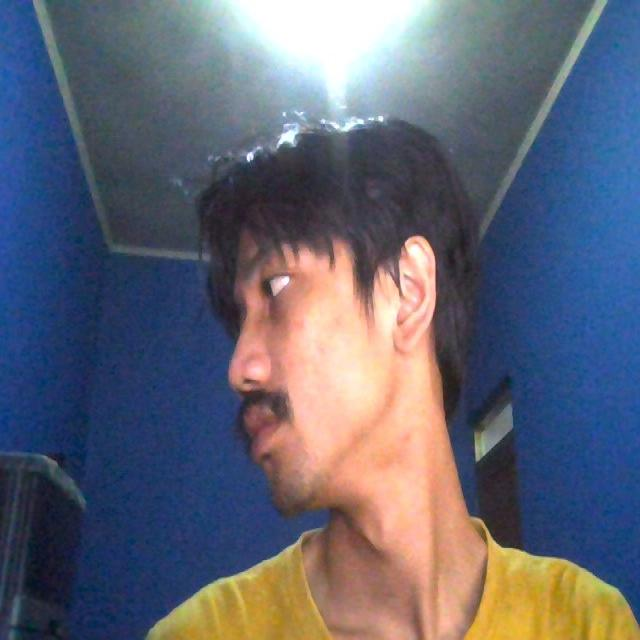Melihat kekanan: (160, 122, 520, 510)
